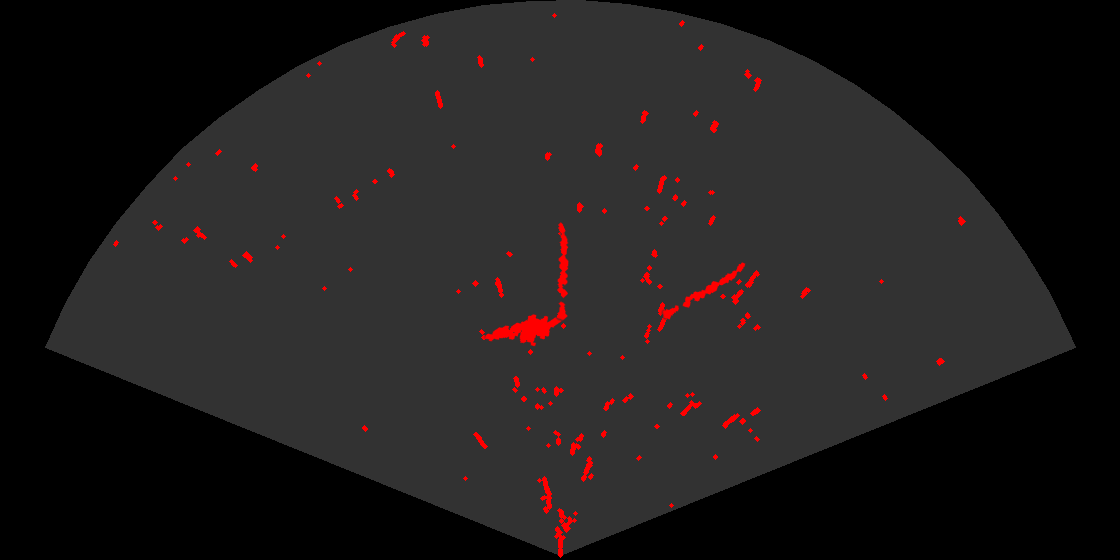chain: (661, 261, 747, 321), (555, 221, 570, 322)
frogman: (484, 311, 563, 348)
